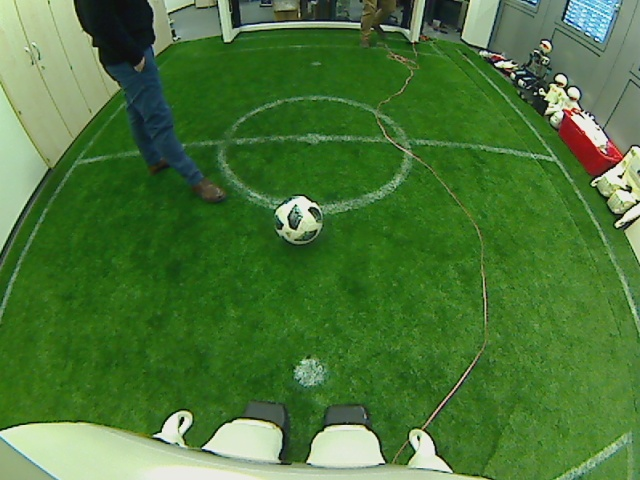ball: (274, 195, 324, 244)
